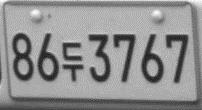3: (87, 32, 111, 82)
6: (139, 32, 164, 82), (36, 32, 60, 81)
7: (111, 32, 137, 83), (165, 33, 190, 84)
8: (10, 31, 34, 80)
두: (61, 41, 84, 82)
